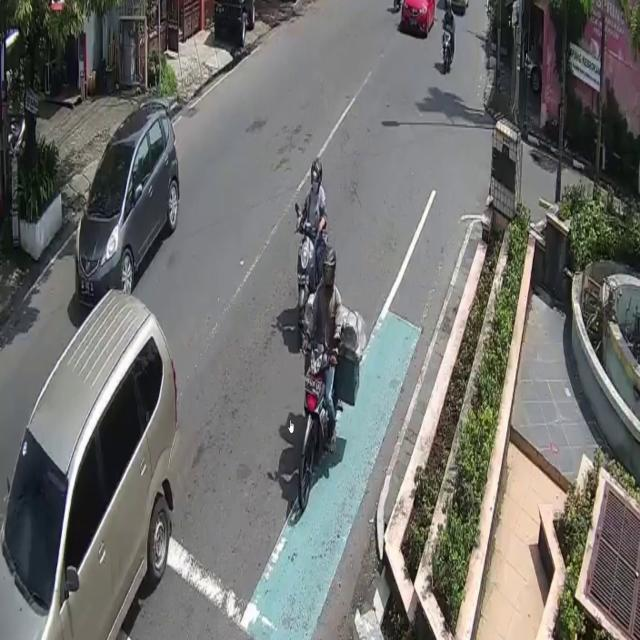bus: (298, 338, 331, 514), (297, 223, 317, 316), (442, 21, 451, 68)
motorcycle: (0, 289, 178, 640), (75, 103, 180, 302)
